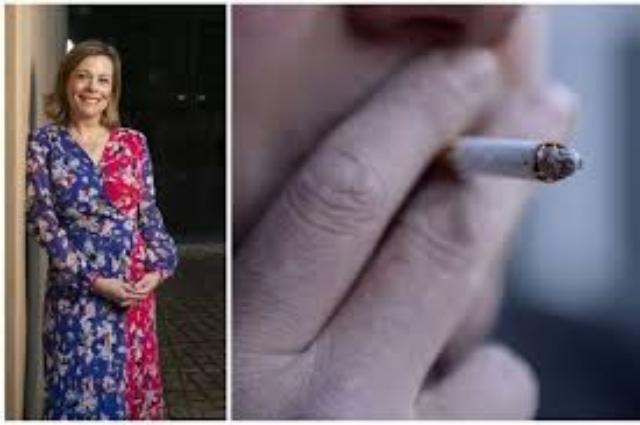Cigarette: (411, 138, 584, 182)
